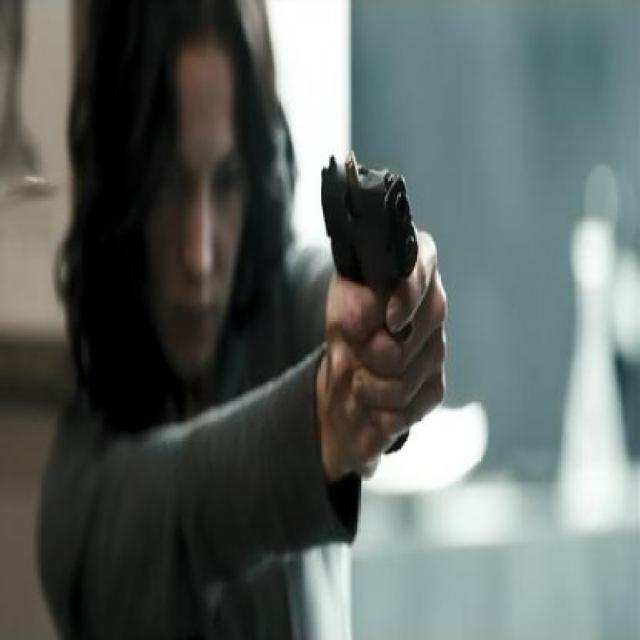guns: (311, 100, 429, 272)
